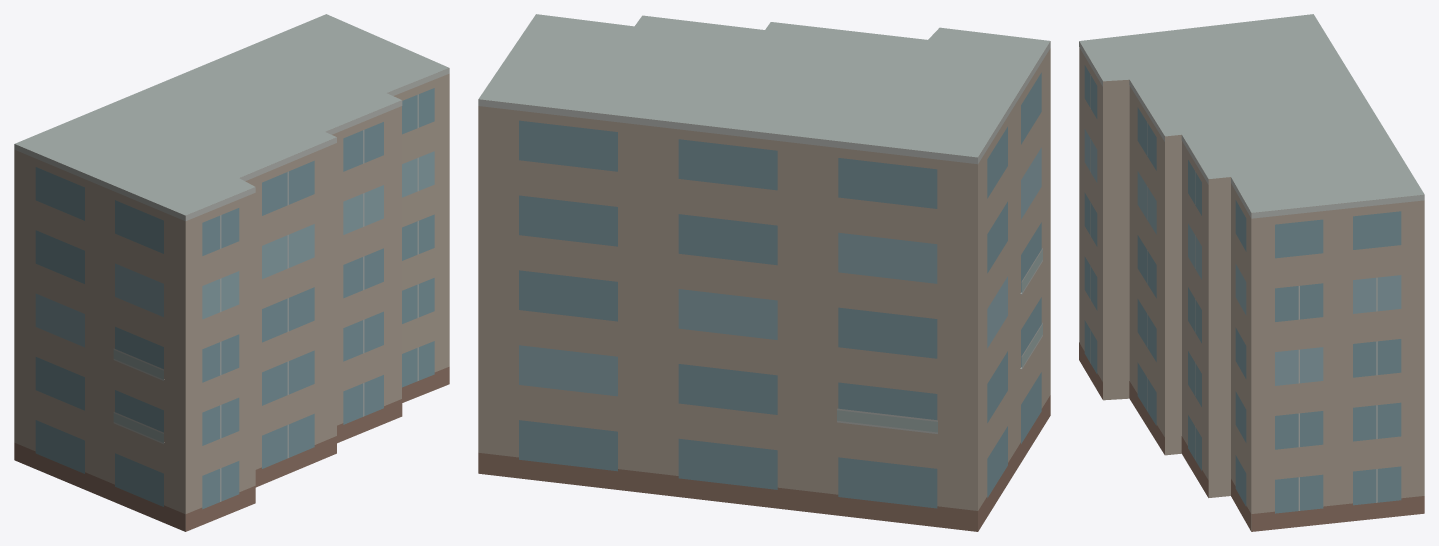
Rendered from survey-upis-32970620.glb.
The picture shows the model from 3 angles, left to right: view 1: azimuth 30°, elevation 25°; view 2: azimuth 150°, elevation 25°; view 3: azimuth 270°, elevation 25°; orthographic projection. The views are drawn at different scales.
Visible parts, largest first — view 1: survey-upis-32970620.tmp; view 2: survey-upis-32970620.tmp; view 3: survey-upis-32970620.tmp.
Part boxes in pixels (x1=…): survey-upis-32970620.tmp: x1=14, y1=14, x2=449, y2=531; survey-upis-32970620.tmp: x1=478, y1=14, x2=1050, y2=531; survey-upis-32970620.tmp: x1=1079, y1=14, x2=1424, y2=531.
Size of the model in its own units: 18.06 by 13.5 by 13.27.
